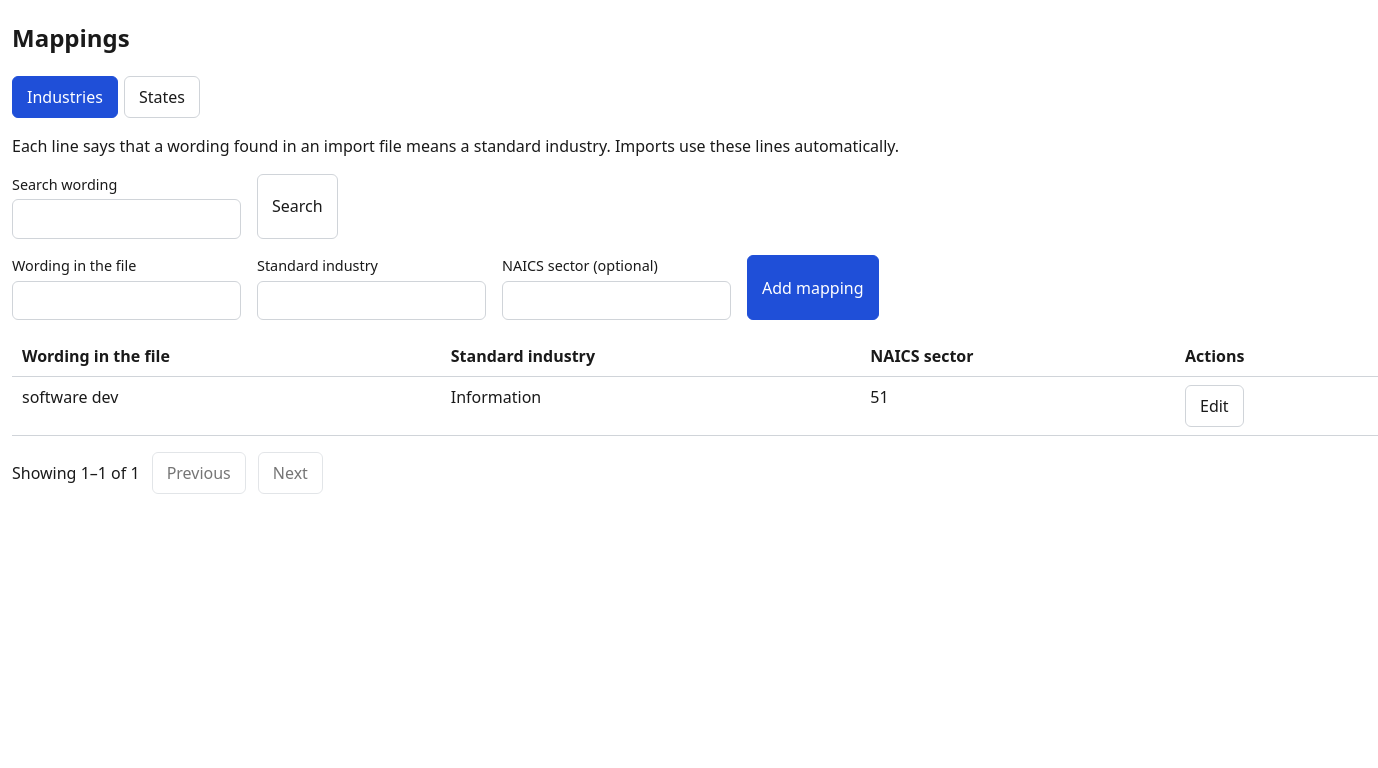
Scenario: industries › 409 on add shows the server's fixed message
Expected: the text "software dev" is shown, [12,377,441,436]
In the field labelled "Wording in the file": [126, 300] box [12,281,241,320], type "x"
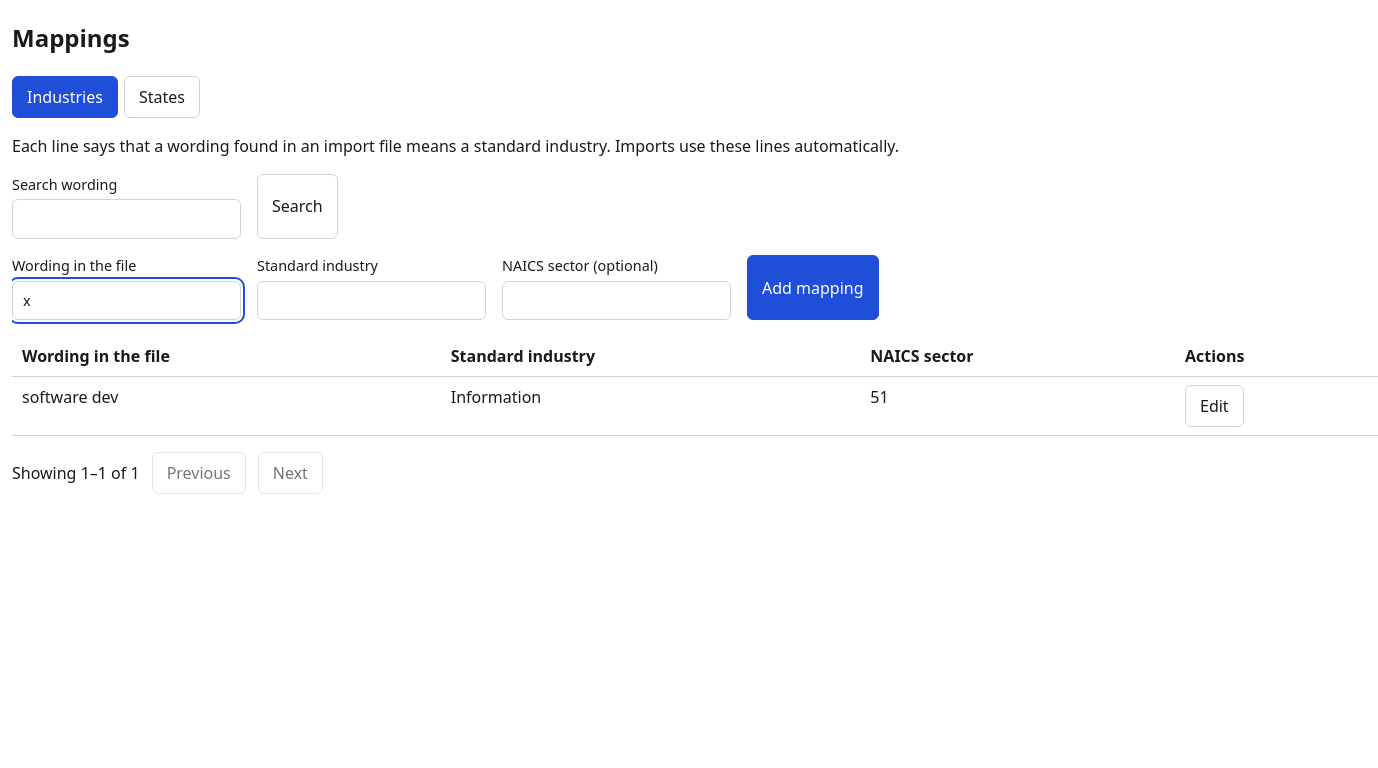
Click the button "Add mapping": [813, 288] box [747,255,878,320]
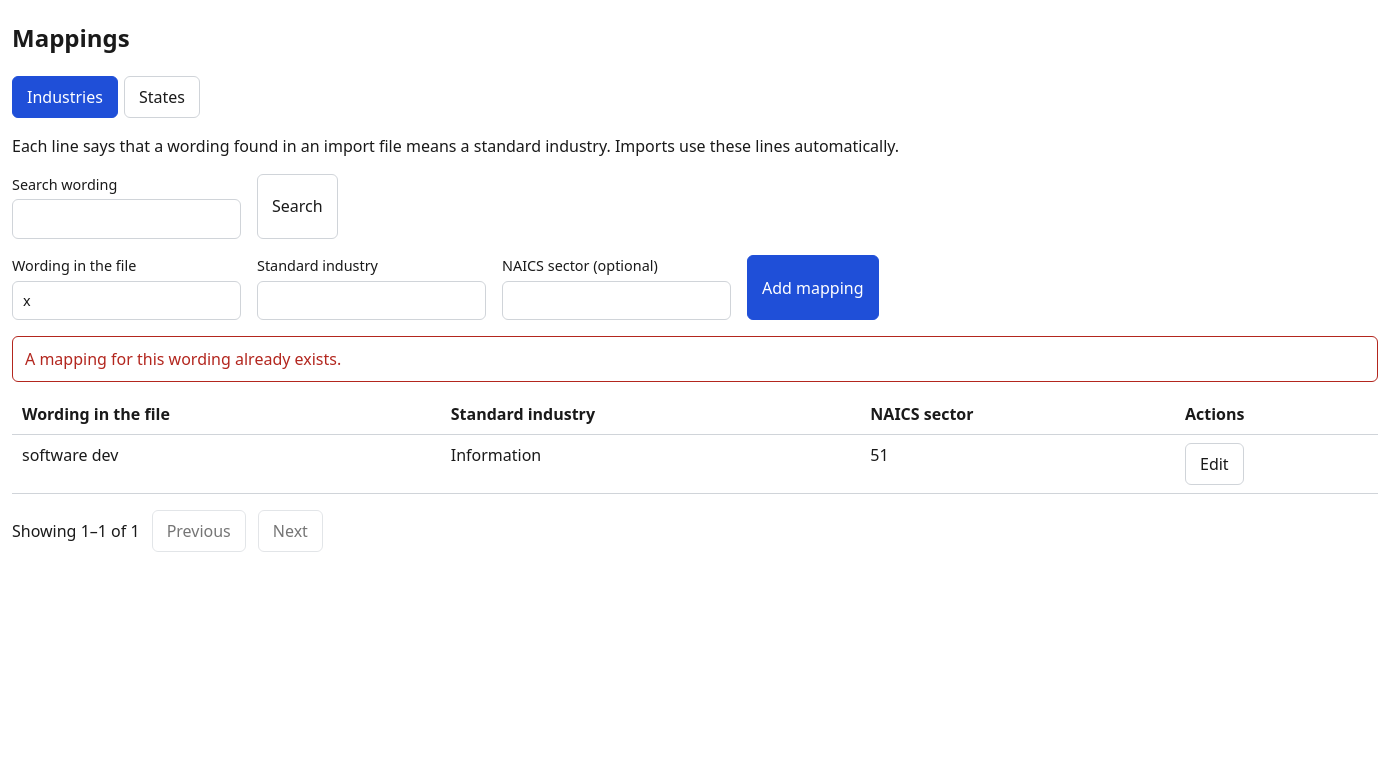
Expected: the message shows "already exists", [25,348,341,370]
